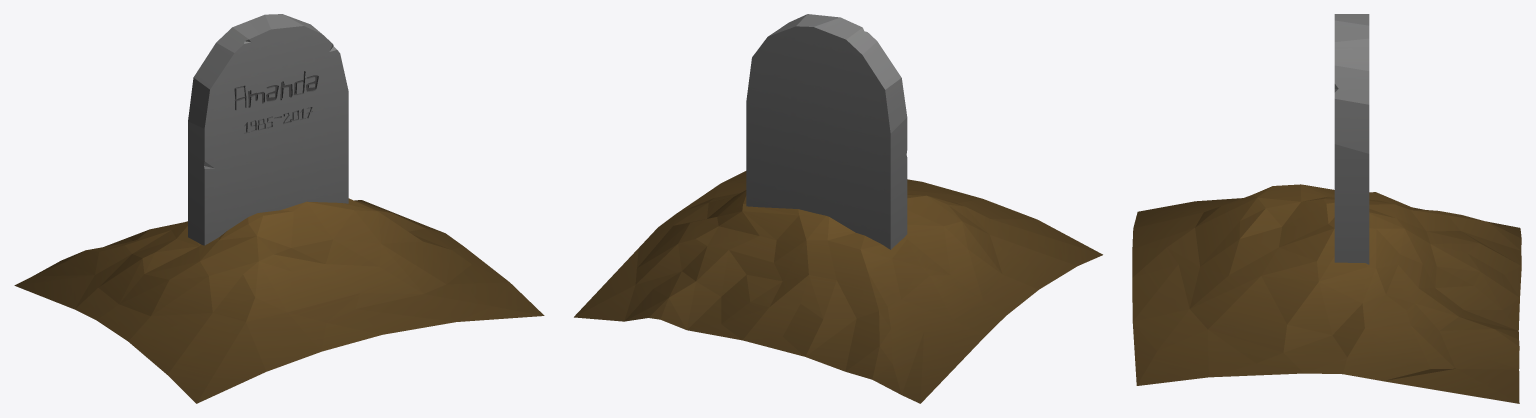
Rendered from gravestone.glb.
3 renders of one model, left to right at view 1: azimuth 30°, elevation 25°; view 2: azimuth 150°, elevation 25°; view 3: azimuth 270°, elevation 25°, orthographic. The views are drawn at different scales.
Visible parts, largest first — view 1: dirt.001, grave_stone; view 2: dirt.001, grave_stone; view 3: dirt.001, grave_stone.
Part boxes in pixels (x1=…): dirt.001: x1=14, y1=198, x2=544, y2=403; grave_stone: x1=188, y1=14, x2=348, y2=245; dirt.001: x1=574, y1=171, x2=1102, y2=403; grave_stone: x1=746, y1=14, x2=907, y2=249; dirt.001: x1=1132, y1=184, x2=1521, y2=403; grave_stone: x1=1334, y1=14, x2=1369, y2=264.
Size of the model in its own units: 4.87 by 3.72 by 4.47.
Materials: 1 (1 with a texture image).
